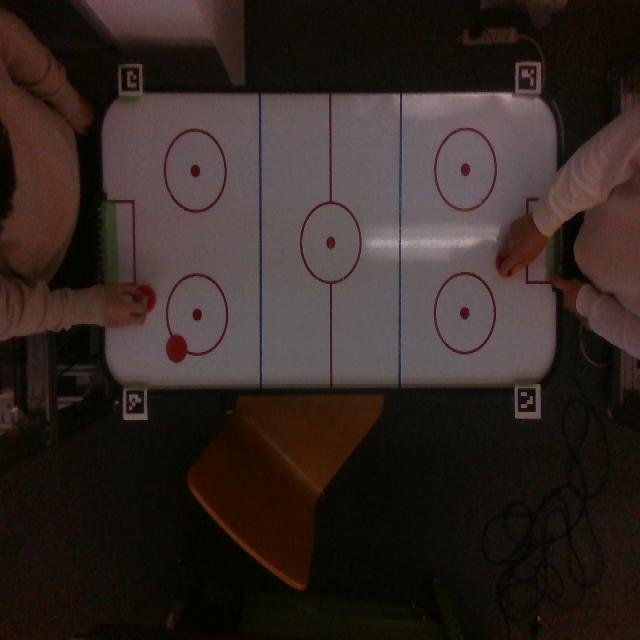puck: (166, 335, 187, 363)
